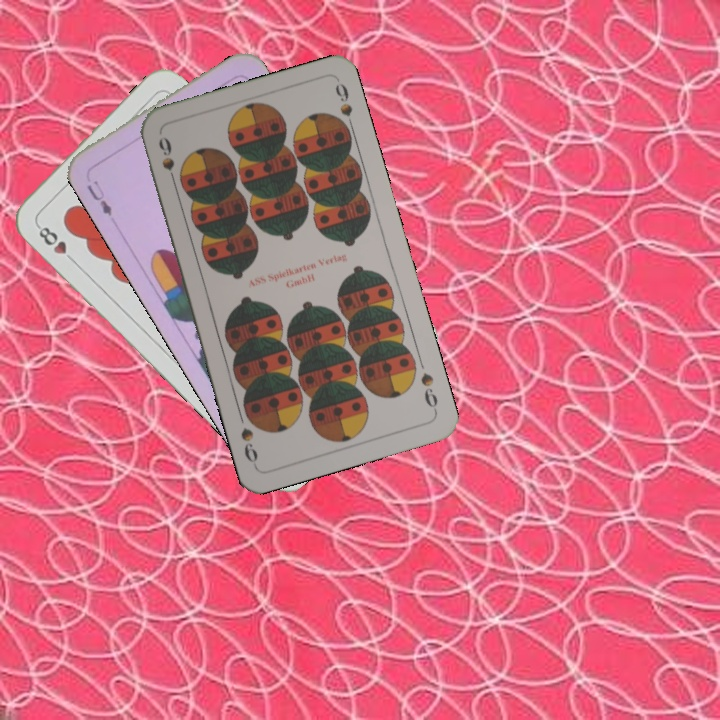EU: (83, 176, 115, 218)
H8: (33, 221, 79, 267)
S9: (154, 133, 180, 190), (416, 369, 441, 415)
